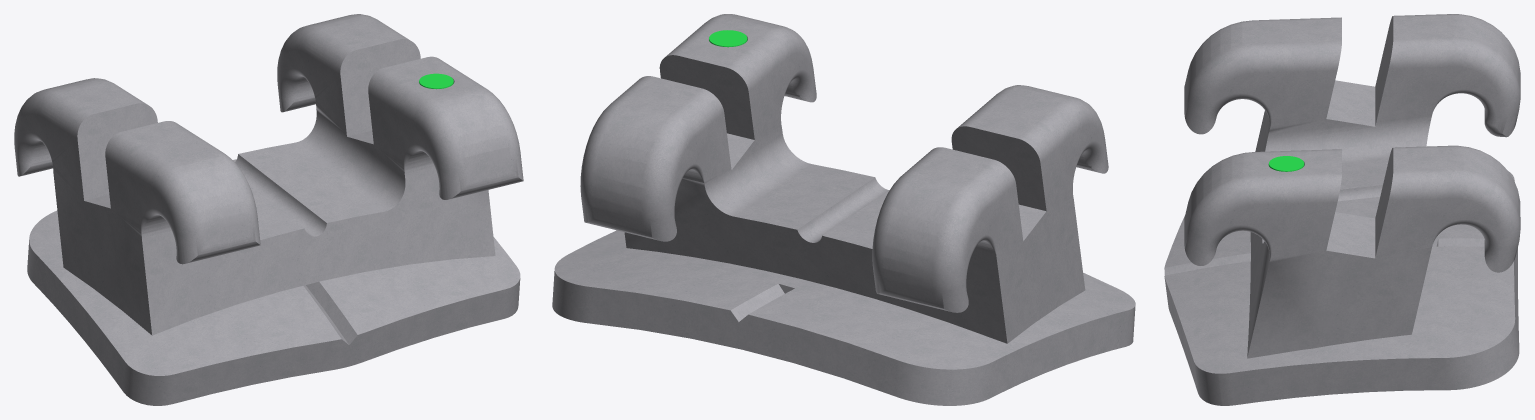
The model's file is bracket.glb.
3 renders of one model, left to right at view 1: azimuth 30°, elevation 25°; view 2: azimuth 150°, elevation 25°; view 3: azimuth 270°, elevation 25°, orthographic. The views are drawn at different scales.
Parts seen in each view (by area): view 1: 268-001; view 2: 268-001; view 3: 268-001.
Boxes of the visible parts, x1,y1,x2,y2 form: 268-001: [14, 14, 523, 405]; 268-001: [552, 14, 1135, 405]; 268-001: [1164, 14, 1520, 405].
Bounding box in the file's own units: 4.5 × 2.31 × 3.35.
2 materials, 1 textured.
